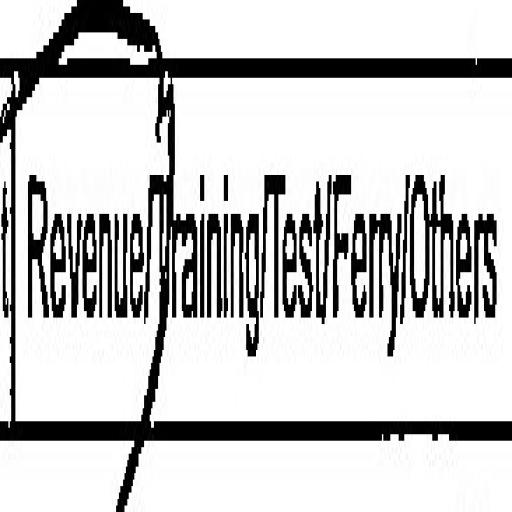check: (12, 0, 152, 487)
